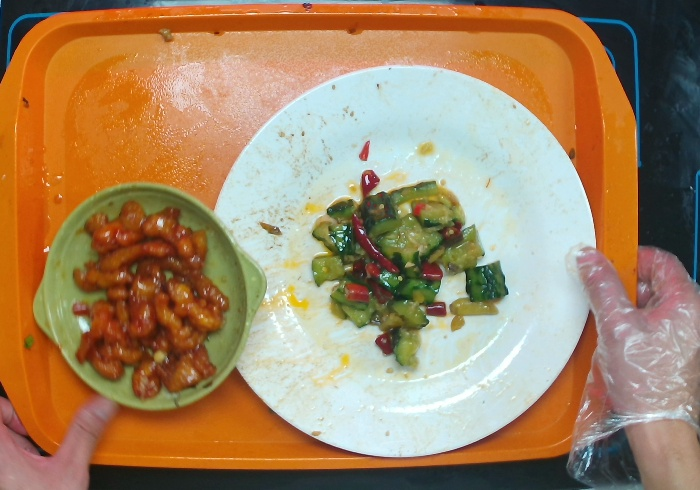NLDX-Da_Yuan_Pan: (202, 61, 599, 461)
NLDX-Lv_Hua_Shuang_Er_Die: (30, 180, 270, 413)
